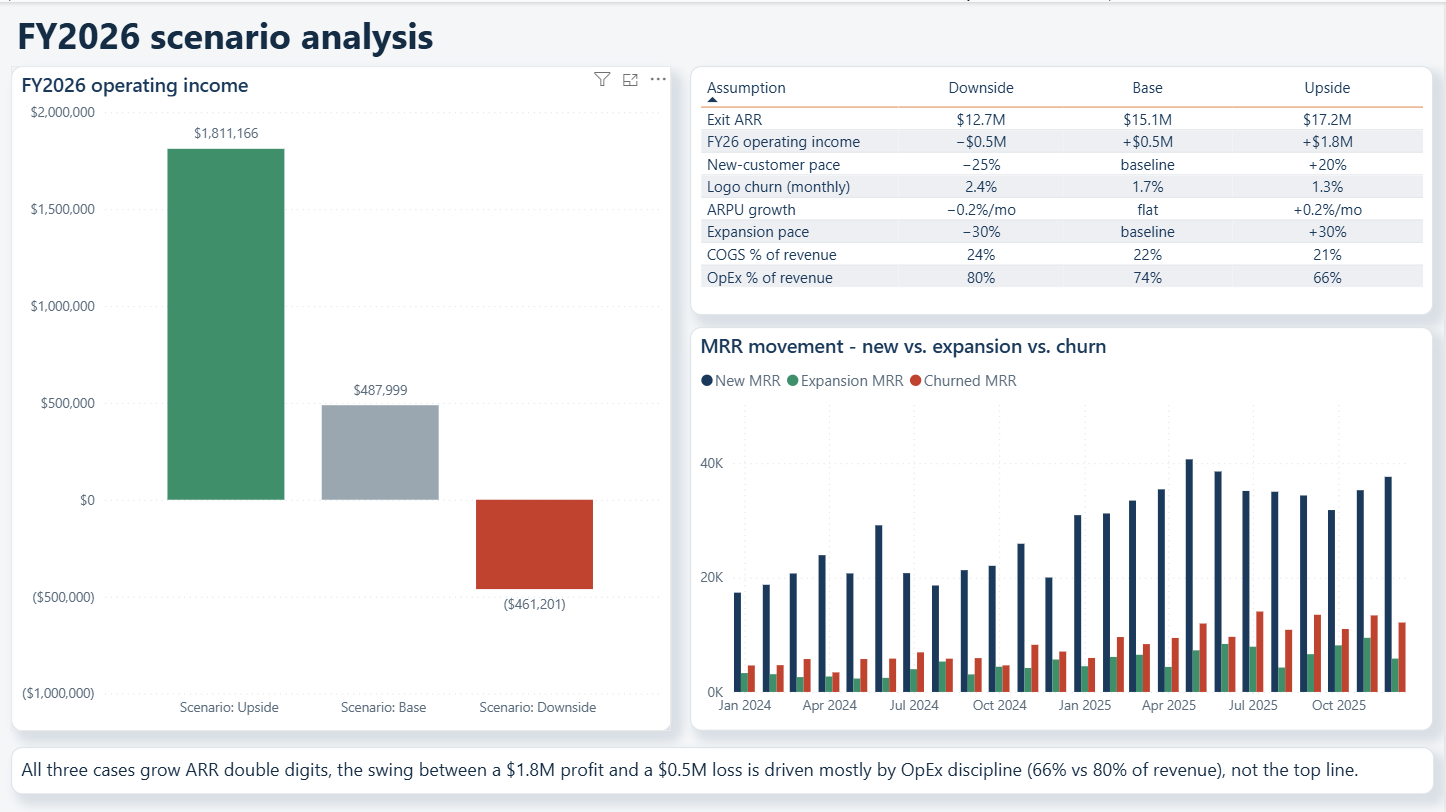

Layout of this report page (visuals, bound fields, positions):
{"tool":"powerbi","page":{"name":"Scenarios","canvas":[1280,720],"ordinal":2},"visuals":[{"type":"textbox","box":[9.7,6.8,1261.5,49.6],"z":0},{"type":"clusteredColumnChart","title":"FY2026 operating income","fields":{"Category":["dashboard_data.series"],"Y":["Sum(dashboard_data.value)"]},"box":[9.7,56.4,585.5,590.4],"z":1000},{"type":"tableEx","fields":{"Values":["Assumptions.Assumption","Assumptions.Downside","Assumptions.Base","Assumptions.Upside"]},"box":[611.8,56.4,659.5,220.8],"z":1001},{"type":"textbox","box":[9.7,660.4,1261.5,41.8],"z":1002},{"type":"clusteredColumnChart","title":"MRR movement - new vs. expansion vs. churn","fields":{"Category":["dashboard_data.date"],"Y":["_Measures.New MRR","_Measures.Expansion MRR","_Measures.Churned MRR"]},"box":[611.8,287.9,659.5,357.9],"z":1003}]}

Visuals, with their boxes in screenshot pixels (x1, y1, x2, y2), scaled from the page's 1280x720 canvas onto the 1446x812 screenshot:
textbox: x1=11, y1=8, x2=1436, y2=64
"FY2026 operating income" clusteredColumnChart: x1=11, y1=64, x2=672, y2=729
tableEx - Assumptions.Assumption x Assumptions.Downside: x1=691, y1=64, x2=1436, y2=313
textbox: x1=11, y1=745, x2=1436, y2=792
"MRR movement - new vs. expansion vs. churn" clusteredColumnChart: x1=691, y1=325, x2=1436, y2=728
